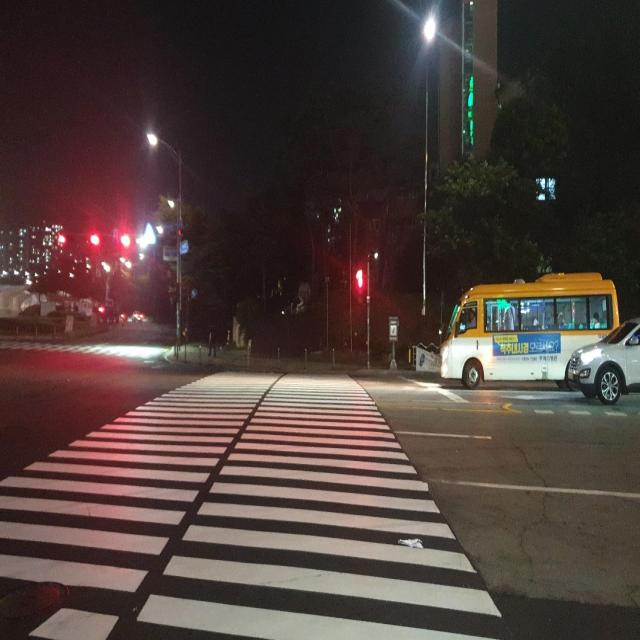횡단보도: (0, 365, 504, 640)
